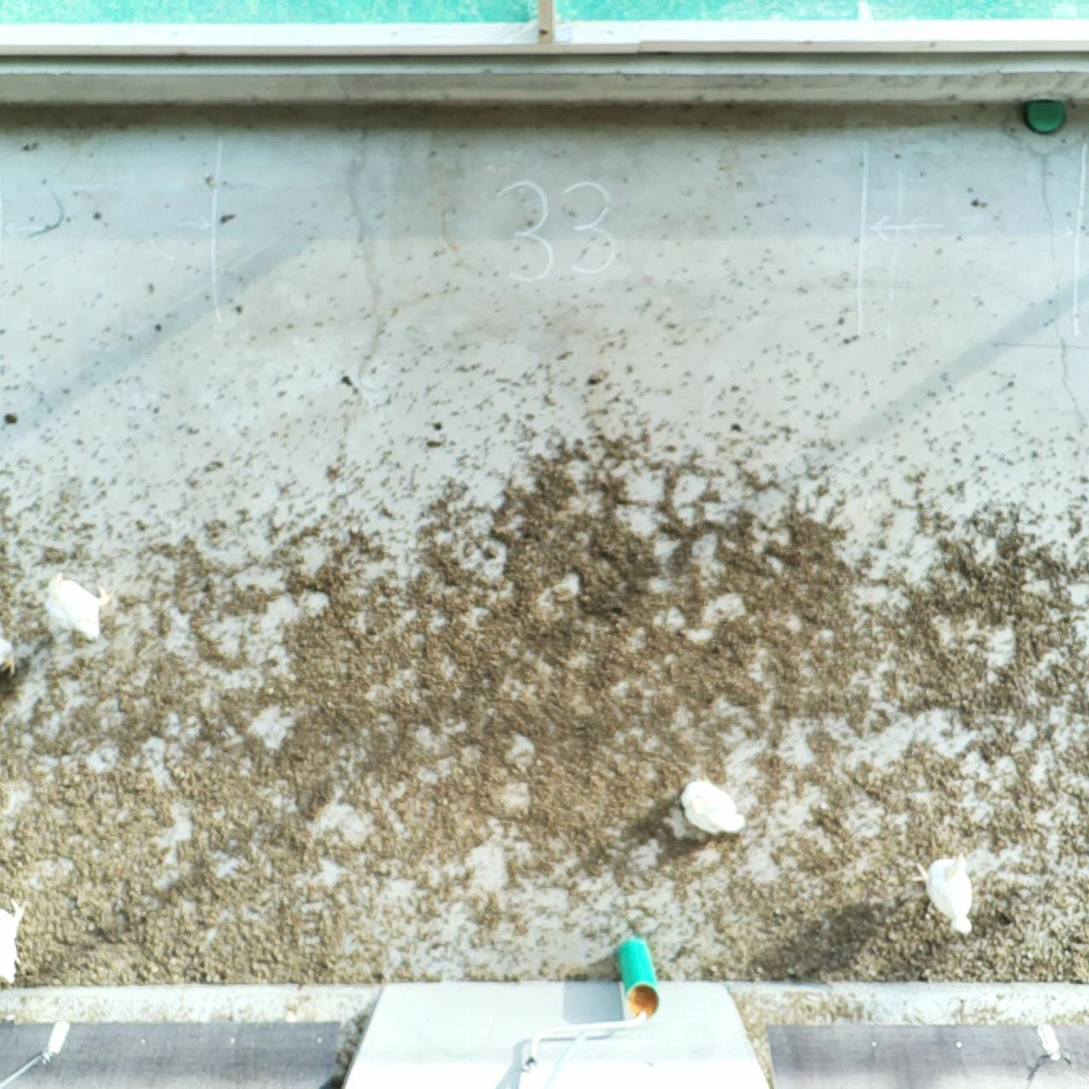chicken: (909, 846, 976, 937), (40, 569, 117, 645), (677, 772, 747, 842), (0, 889, 34, 990)
